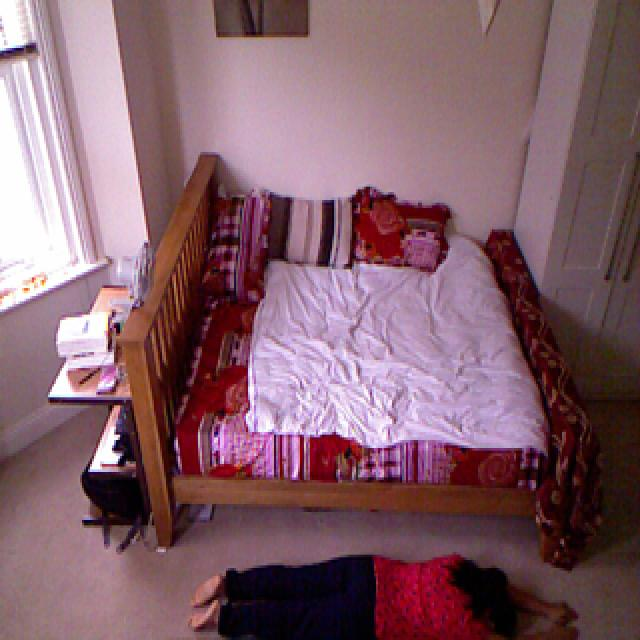lying: (217, 500, 544, 640)
